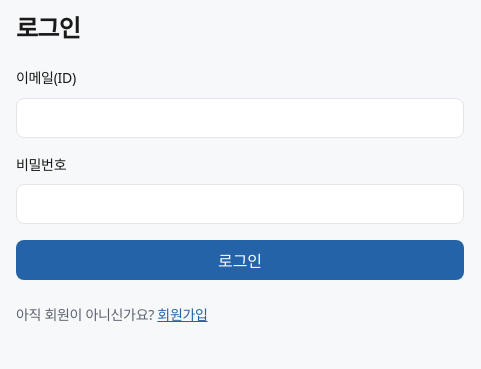
로그인 폼 클라이언트 검증 › 이메일 형식이 틀리면 요청을 보내지 않는다
The image size is (481, 369).
Type "not-an-email" into the field labelled "이메일(ID)" at (240, 118), box [16,98,464,138]
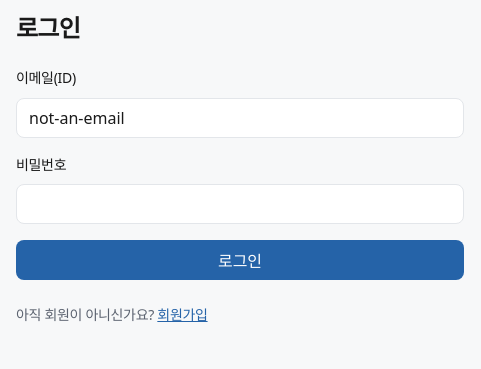
Type "password123" into the password field labelled "비밀번호" at (240, 204), box [16,184,464,224]
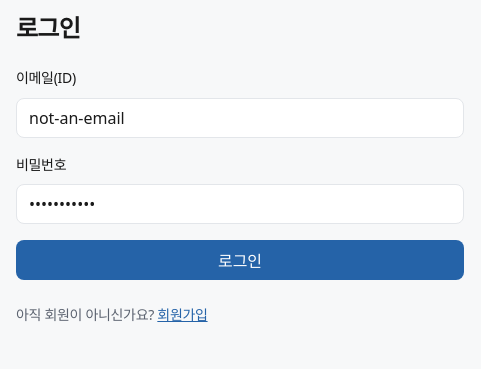
Click the button "로그인" at (240, 260), box [16,240,464,280]
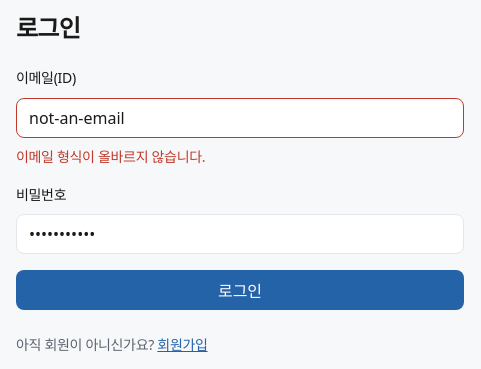
Expected: the text "이메일 형식이 올바르지 않습니다." is shown, [16,147,205,166]
